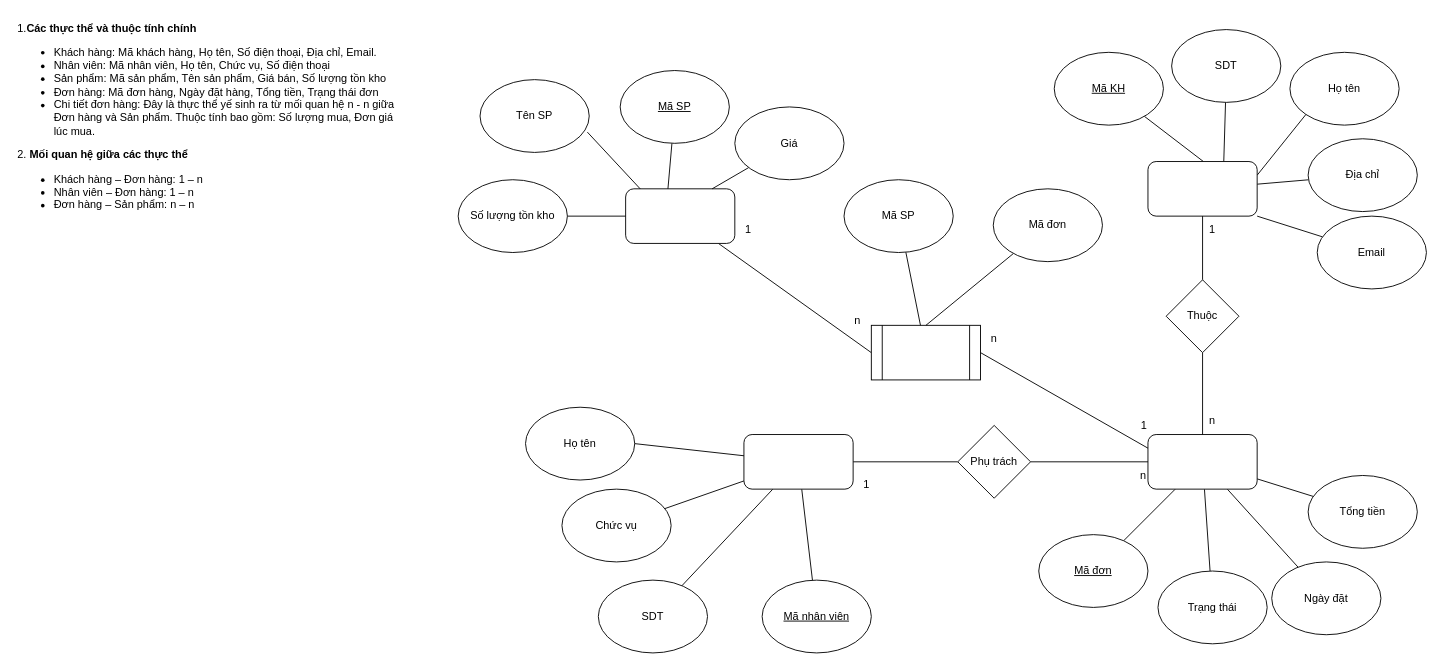
This 1442x669 diagram has some shape labels left out. The shapes that lost their labels are listed below. From the top down, each one's box as (x1, y1, x2, y2) in pixels, then its label:
(1147, 161, 1257, 216): Khách hàng
(625, 188, 735, 243): Sản phẩm
(870, 324, 981, 380): Chi tiêt đơn hàng
(743, 434, 853, 489): Nhân viên
(1147, 434, 1257, 489): Đơn hàng
